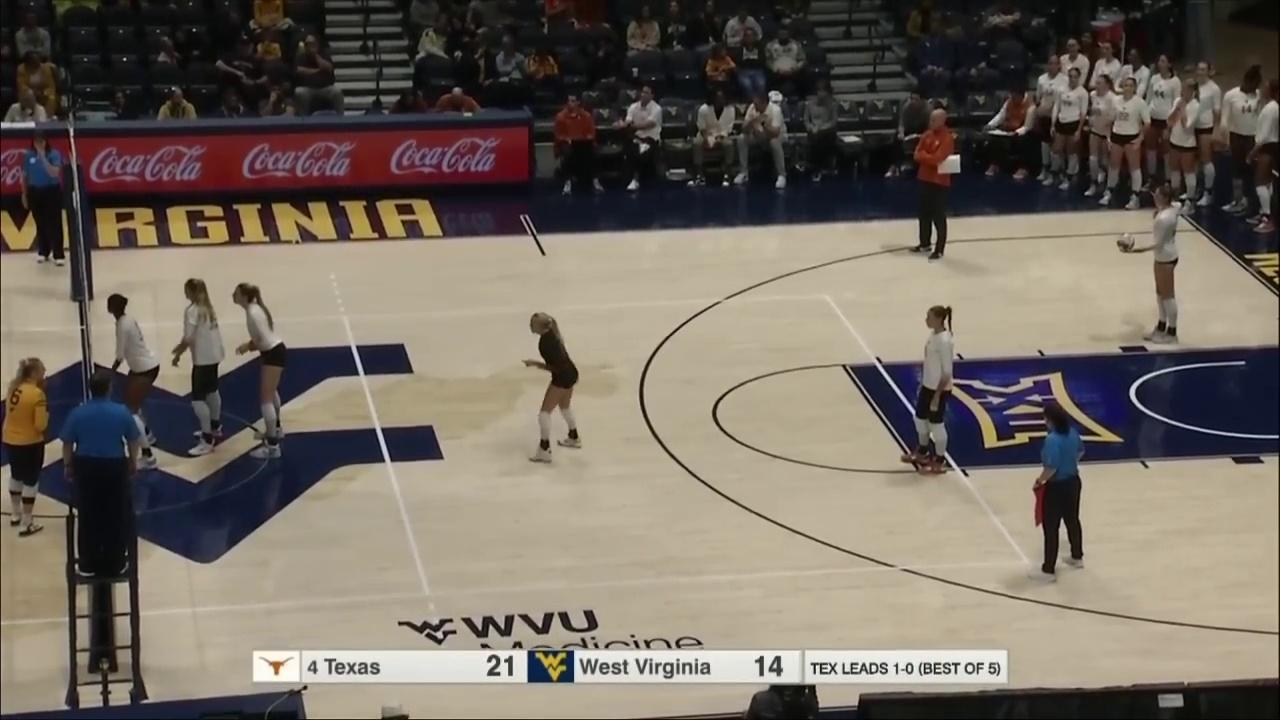player: (229, 283, 287, 457), (104, 295, 160, 469), (175, 278, 227, 453), (521, 312, 580, 464), (905, 303, 956, 475), (0, 358, 49, 535), (1141, 184, 1183, 347)
refree: (63, 375, 139, 575), (1035, 406, 1085, 585), (22, 135, 68, 267)
